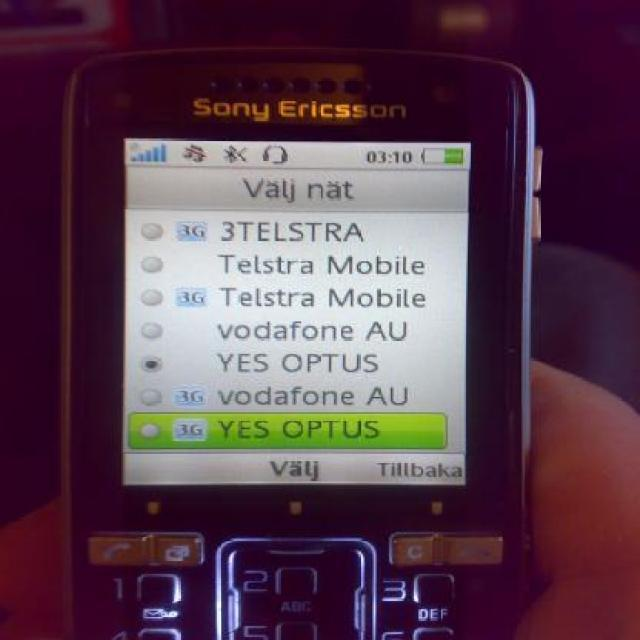phone: (30, 18, 553, 630)
